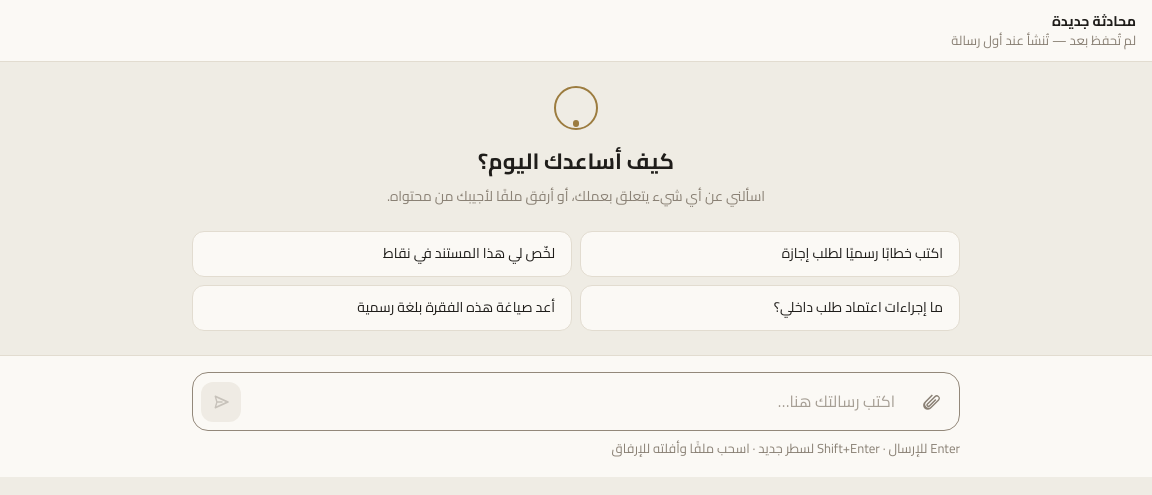
Scenario: مصادر أول رد › تبقى ظاهرة بعد إنشاء المحادثة
Type "سؤال" into the text box at [576, 402], box [249,381,903,422]
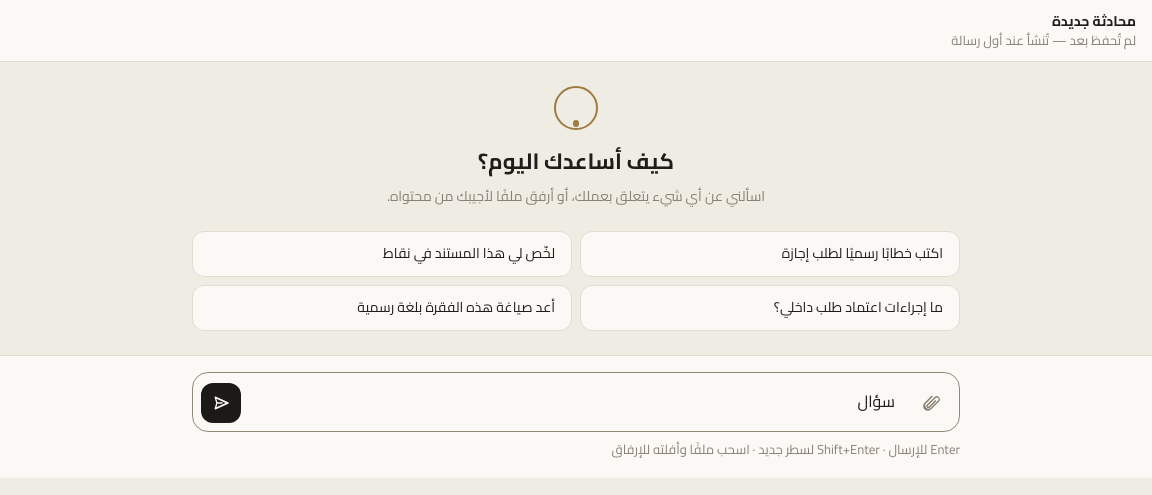
Press Enter in the text box, box [249,381,903,423]
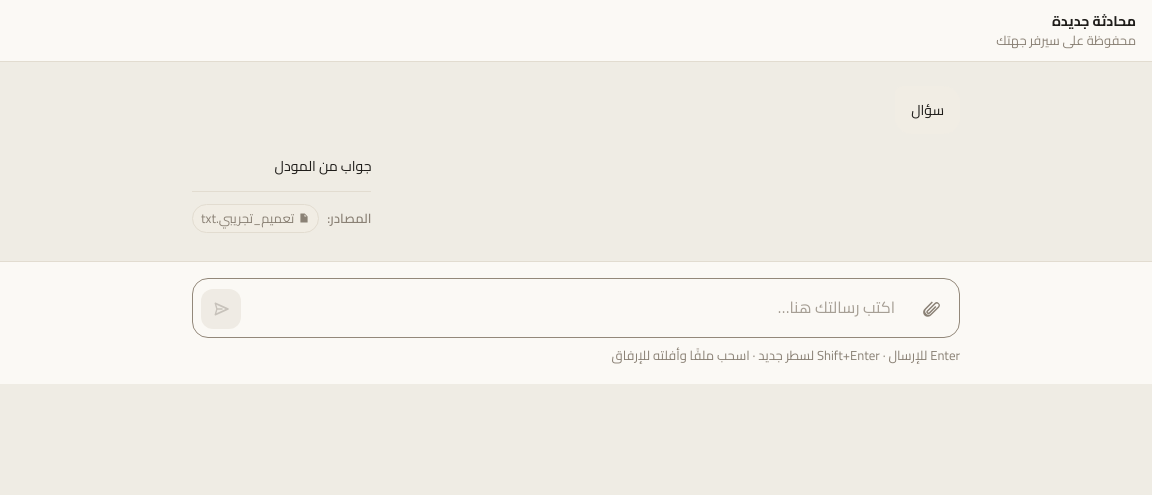
Expected: the text "جواب من المودل" is shown, [275,153,372,179]
Expected: the text "تعميم_تجريبي.txt" is shown, [201,207,294,230]
